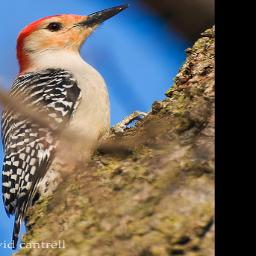Woodpecker: (1, 2, 131, 250)
